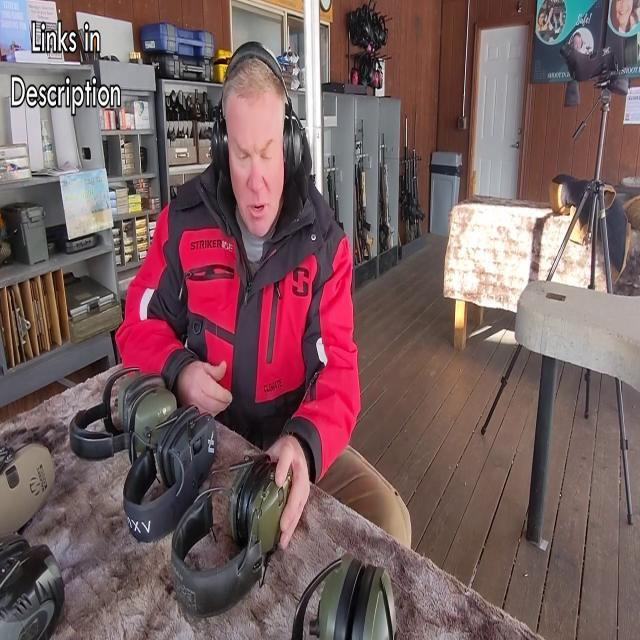earmuff: (280, 103, 308, 187), (207, 110, 233, 188)
